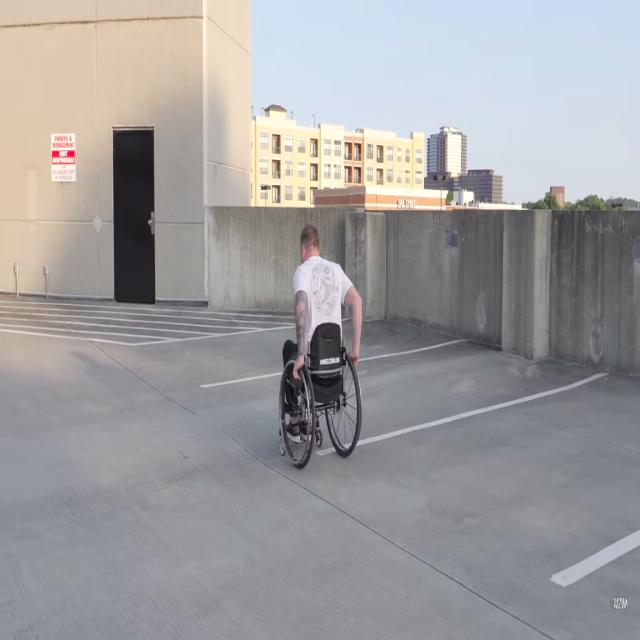wheelchairs: (275, 318, 368, 474)
